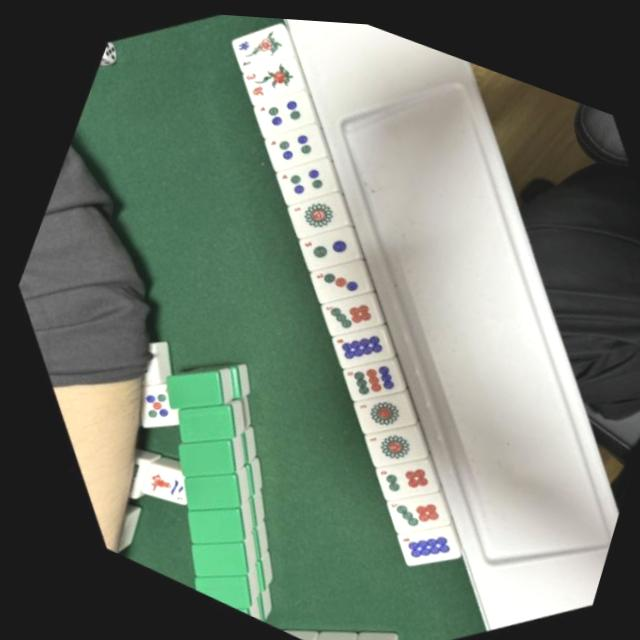bf1: (212, 11, 292, 92)
bs3: (224, 44, 300, 121)
sc2: (113, 444, 201, 536)
sd1: (271, 180, 343, 253), (341, 378, 409, 448), (353, 413, 418, 479)
sd2: (284, 215, 354, 286)
sd3: (296, 248, 364, 318)
sd4: (259, 145, 334, 221), (237, 78, 311, 154), (249, 112, 322, 187)
sd5: (111, 373, 188, 454)
sd6: (362, 441, 437, 516)
sd7: (373, 471, 448, 548), (308, 279, 379, 352)
sd8: (385, 504, 458, 579), (318, 311, 389, 383)
sd9: (329, 342, 402, 417)
